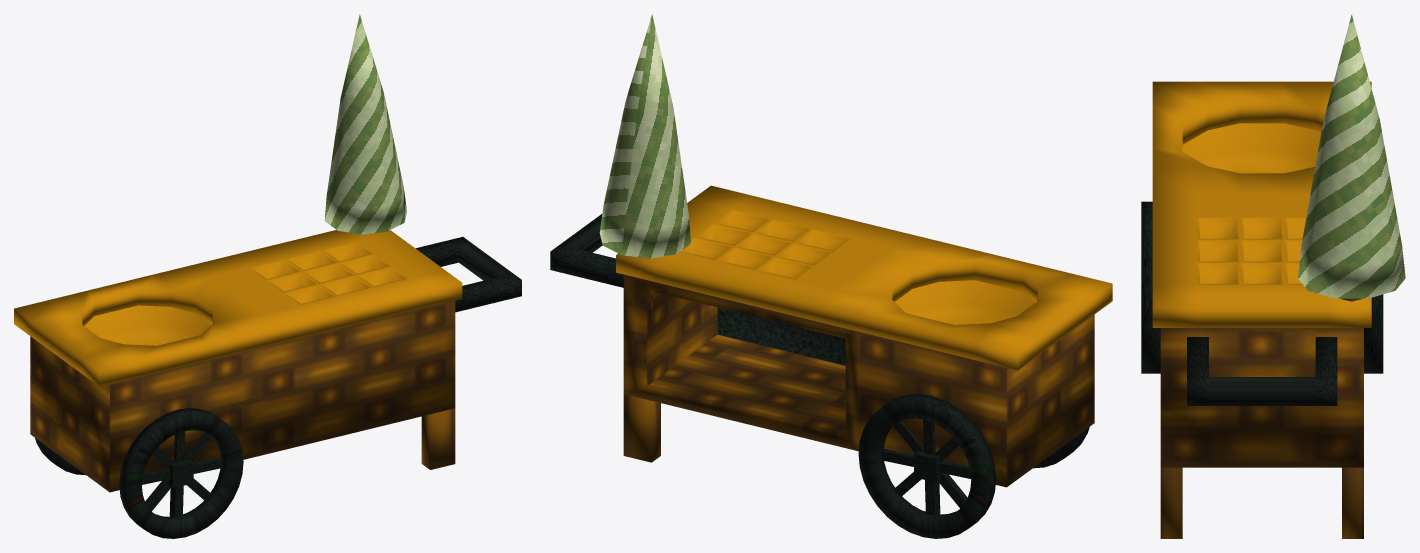
The model's file is carro.fbx.
The picture shows the model from 3 angles, left to right: view 1: azimuth 30°, elevation 25°; view 2: azimuth 150°, elevation 25°; view 3: azimuth 270°, elevation 25°; orthographic projection. The views are drawn at different scales.
Visible parts, largest first — view 1: carro, ruedas; view 2: carro, ruedas; view 3: carro, ruedas.
Boxes of the visible parts, x1,y1,x2,y2 form: carro: (14, 14, 521, 492); ruedas: (35, 408, 243, 538); carro: (550, 14, 1112, 487); ruedas: (858, 394, 1089, 538); carro: (1152, 14, 1405, 538); ruedas: (1141, 201, 1383, 373).
Size of the model in its own units: 633 by 556 by 260.
